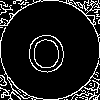O: (25, 25, 67, 74)
